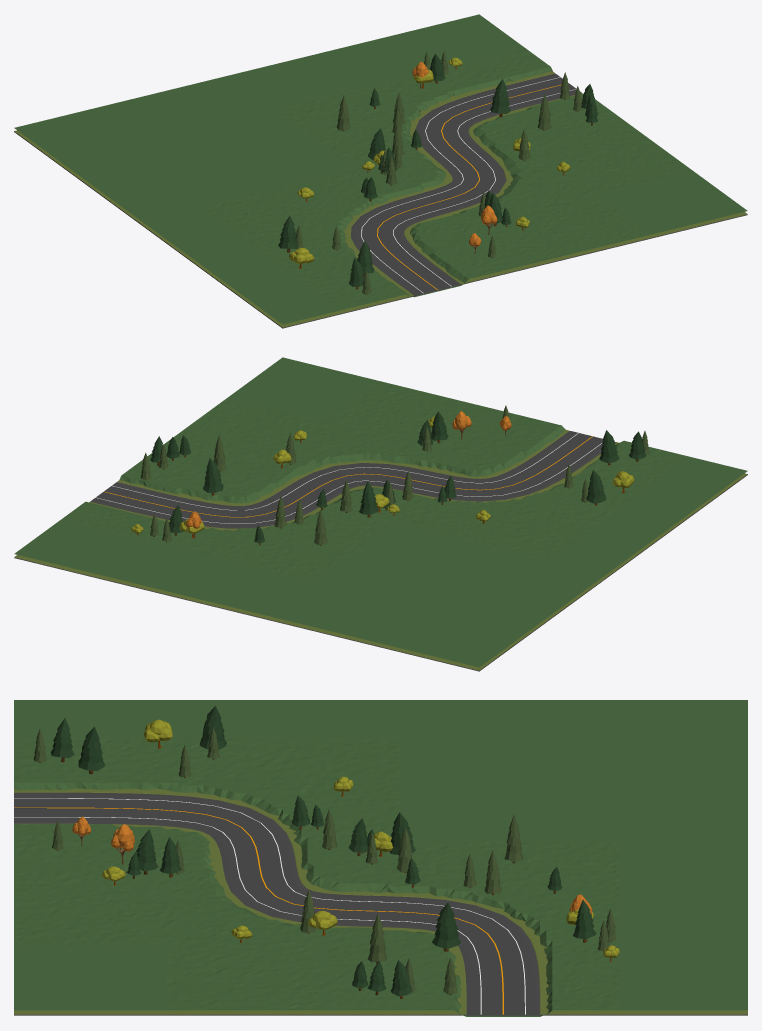
File: ForestRoadLeft2.fbx
3 renders of one model, top to bottom at view 1: azimuth 30°, elevation 25°; view 2: azimuth 150°, elevation 25°; view 3: azimuth 270°, elevation 25°, orthographic. The views are drawn at different scales.
Visible parts, largest first — view 1: FRL2Plane, FRL2Road; view 2: FRL2Plane, FRL2Road; view 3: FRL2Plane, FRL2Road, FRL2Plane|pineTree04|Dupli|44, FRL2Plane|pineTree04|Dupli|10, FRL2Plane|pineTree04|Dupli|31, FRL2Plane|pineTree04|Dupli|14, FRL2Plane|pineTree04|Dupli|43, FRL2Plane|pineTree05|Dupli|23, FRL2Plane|pineTree04|Dupli|13, FRL2Plane|pineTree05|Dupli|5, FRL2Plane|oakTree|Dupli|2, FRL2Plane|birchTree|Dupli|9 (+2 smaller).
Part boxes in pixels (bbox=[...]): FRL2Plane: bbox=[14, 14, 747, 324]; FRL2Road: bbox=[14, 71, 747, 328]; FRL2Plane: bbox=[14, 357, 747, 667]; FRL2Road: bbox=[14, 430, 747, 671]; FRL2Plane: bbox=[14, 700, 747, 1016]; FRL2Road: bbox=[14, 788, 747, 1015]; FRL2Plane|pineTree04|Dupli|44: bbox=[432, 902, 461, 951]; FRL2Plane|pineTree04|Dupli|10: bbox=[78, 727, 104, 774]; FRL2Plane|pineTree04|Dupli|31: bbox=[199, 706, 226, 749]; FRL2Plane|pineTree04|Dupli|14: bbox=[50, 718, 74, 762]; FRL2Plane|pineTree04|Dupli|43: bbox=[136, 829, 158, 874]; FRL2Plane|pineTree05|Dupli|23: bbox=[368, 913, 387, 963]; FRL2Plane|pineTree04|Dupli|13: bbox=[573, 899, 596, 942]; FRL2Plane|pineTree05|Dupli|5: bbox=[504, 814, 523, 863]; FRL2Plane|oakTree|Dupli|2: bbox=[144, 719, 172, 748]; FRL2Plane|birchTree|Dupli|9: bbox=[111, 824, 134, 864].
Size of what is drawn, in the model's own units: 30000 by 2585 by 30000.
